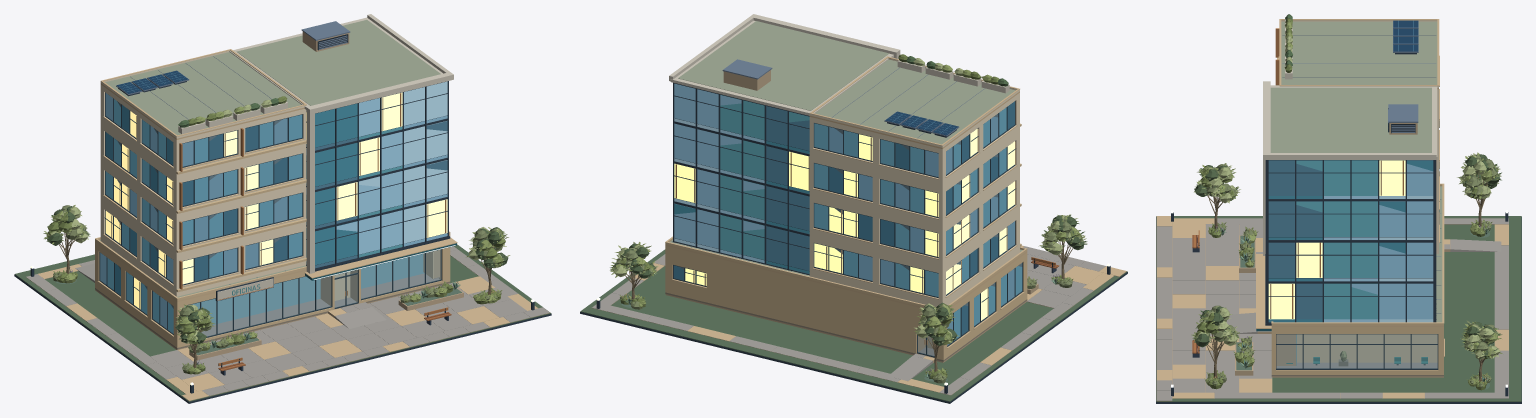
Rendered from edificio_oficinas.fbx.
The picture shows the model from 3 angles, left to right: view 1: azimuth 30°, elevation 25°; view 2: azimuth 150°, elevation 25°; view 3: azimuth 270°, elevation 25°; orthographic projection. The views are drawn at different scales.
Parts seen in each view (by area): view 1: Acristalamiento opaco, Muros, Marquesinas, Senderos y explanadas, Marcos y lamas, Remates minerales, Cristales transparentes, Islas de plantacion, Equipamiento de fachada, Piedra y bordillos, Setos y herbaceas, Arbol 237 (+4 smaller); view 2: Acristalamiento opaco, Muros, Marquesinas, Islas de plantacion, Marcos y lamas, Senderos y explanadas, Remates minerales, Equipamiento de fachada, Piedra y bordillos, Arbol 237, Arbol 239, Arbol 238 (+1 smaller); view 3: Acristalamiento opaco, Marquesinas, Senderos y explanadas, Islas de plantacion, Muros, Marcos y lamas, Cristales transparentes, Remates minerales, Equipamiento de fachada, Setos y herbaceas, Arbol 240, Arbol 237 (+4 smaller).
Part boxes in pixels (x1,y1,x2,y2): Acristalamiento opaco: (100,81,447,333); Muros: (95,81,450,347); Marquesinas: (95,17,457,302); Senderos y explanadas: (26,246,550,400); Marcos y lamas: (99,34,455,343); Remates minerales: (95,14,453,349); Cristales transparentes: (185,249,440,336); Islas de plantacion: (14,244,551,401); Equipamiento de fachada: (116,21,350,127); Piedra y bordillos: (14,274,551,403); Setos y herbaceas: (53,267,502,374); Arbol 237: (43,205,90,273); Acristalamiento opaco: (674,83,1022,345); Muros: (665,83,1027,360); Marquesinas: (665,20,1027,307); Islas de plantacion: (580,249,1127,401); Marcos y lamas: (673,82,1022,357); Senderos y explanadas: (592,245,1126,395); Remates minerales: (665,14,1027,362); Equipamiento de fachada: (722,54,1008,137); Piedra y bordillos: (580,272,1127,403); Arbol 237: (914,302,959,371); Arbol 239: (1038,214,1087,278); Arbol 238: (610,242,658,299); Acristalamiento opaco: (1268,160,1433,322); Marquesinas: (1256,19,1444,331); Senderos y explanadas: (1156,216,1508,401); Islas de plantacion: (1156,216,1521,401); Muros: (1268,89,1443,374); Marcos y lamas: (1265,28,1439,369); Cristales transparentes: (1277,334,1437,368); Remates minerales: (1263,19,1444,377); Equipamiento de fachada: (1284,14,1427,366); Setos y herbaceas: (1204,219,1492,390); Arbol 240: (1191,305,1239,378); Arbol 237: (1457,152,1501,226).
Size of the model in its own units: 30 by 17.79 by 25.
